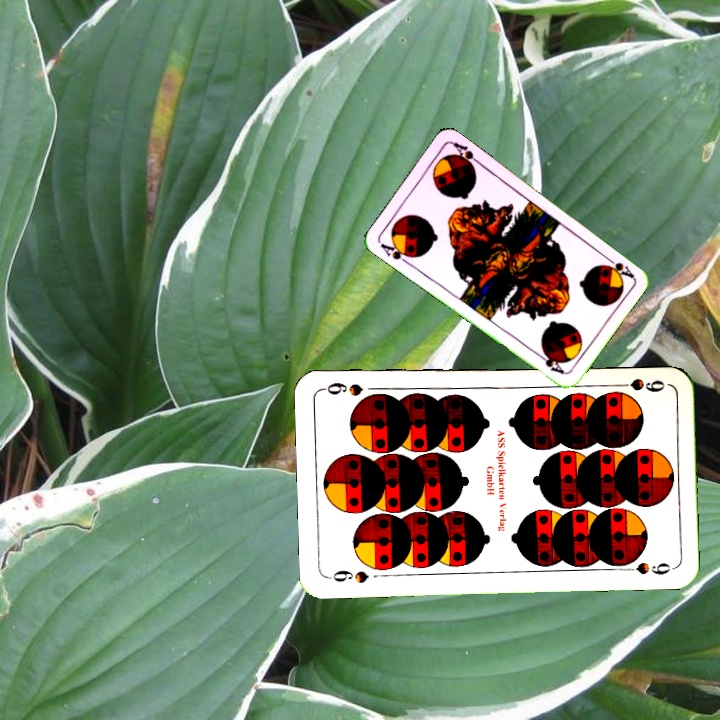S9: (609, 375, 667, 395), (324, 566, 371, 585)
SA: (376, 237, 416, 268), (600, 252, 636, 281)
